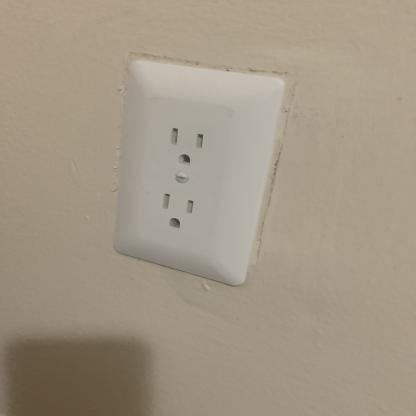OUTLET: (113, 57, 266, 286)
